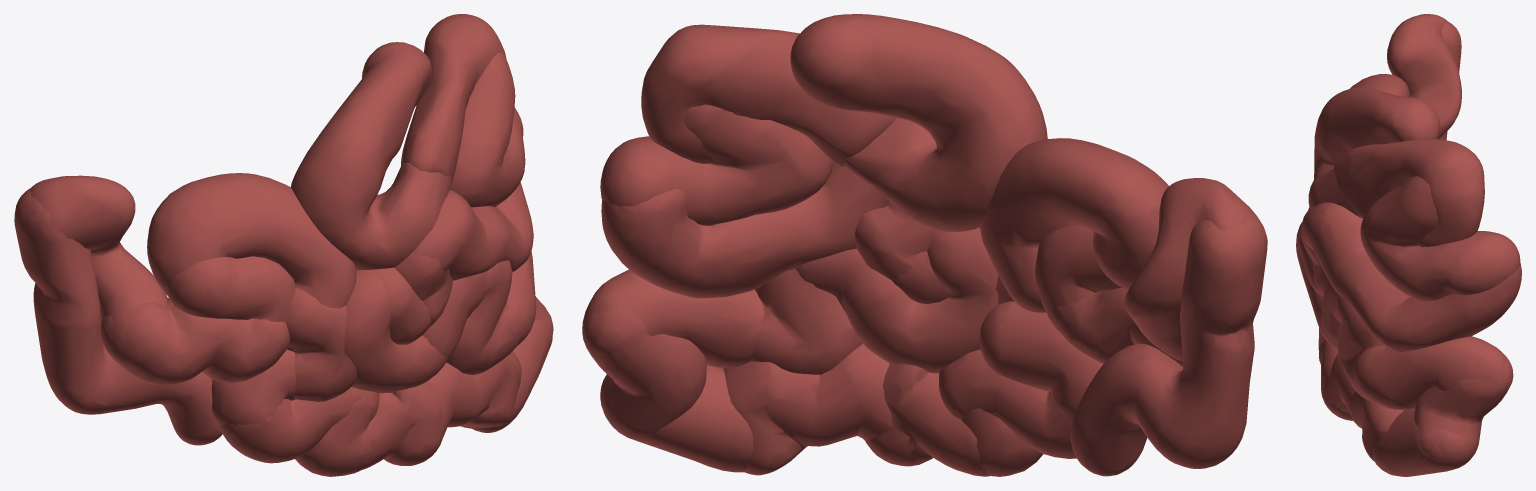
Rendered from FMA7207.glb.
3 renders of one model, left to right at view 1: azimuth 30°, elevation 25°; view 2: azimuth 150°, elevation 25°; view 3: azimuth 270°, elevation 25°, orthographic. The views are drawn at different scales.
Visible parts, largest first — view 1: FMA7207; view 2: FMA7207; view 3: FMA7207.
Part boxes in pixels (box(x1,y1,x2,y2)): FMA7207: box(14, 14, 553, 476); FMA7207: box(582, 14, 1267, 476); FMA7207: box(1296, 14, 1521, 476).
Size of the model in its own units: 0.189 by 0.1346 by 0.0817.
